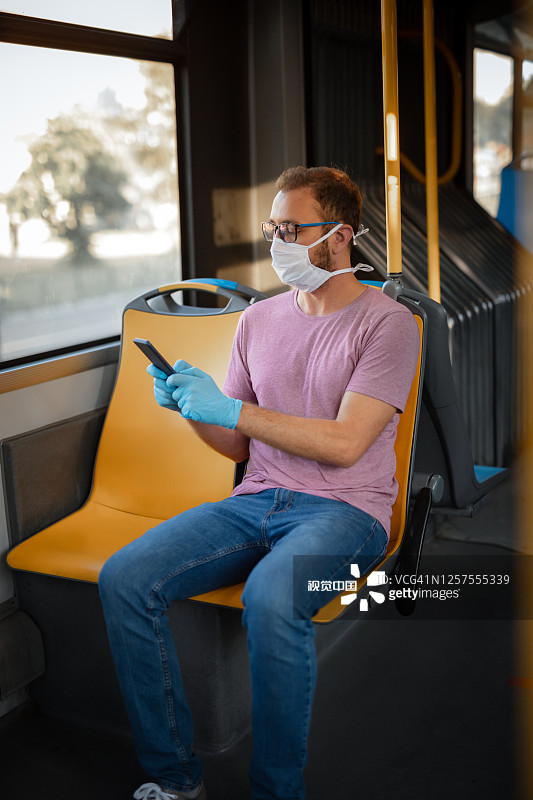reading: (108, 321, 267, 454)
